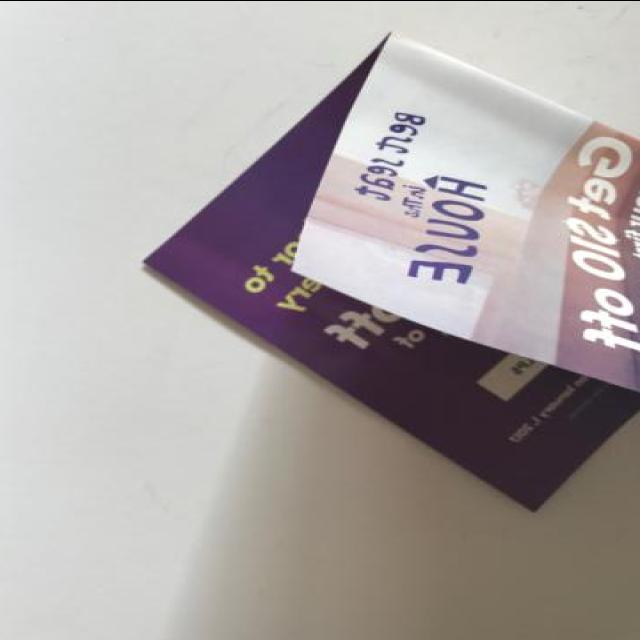kertas: (139, 21, 640, 515)
